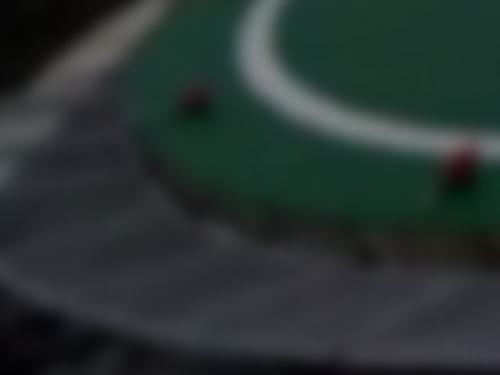Apron: (229, 3, 493, 170)
